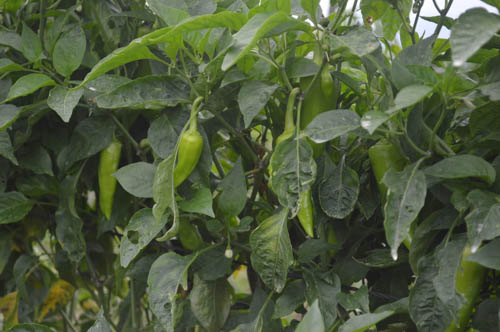ChiliPepper: (372, 146, 415, 252), (274, 134, 317, 237), (302, 69, 333, 162), (168, 133, 205, 193), (97, 145, 120, 225)
